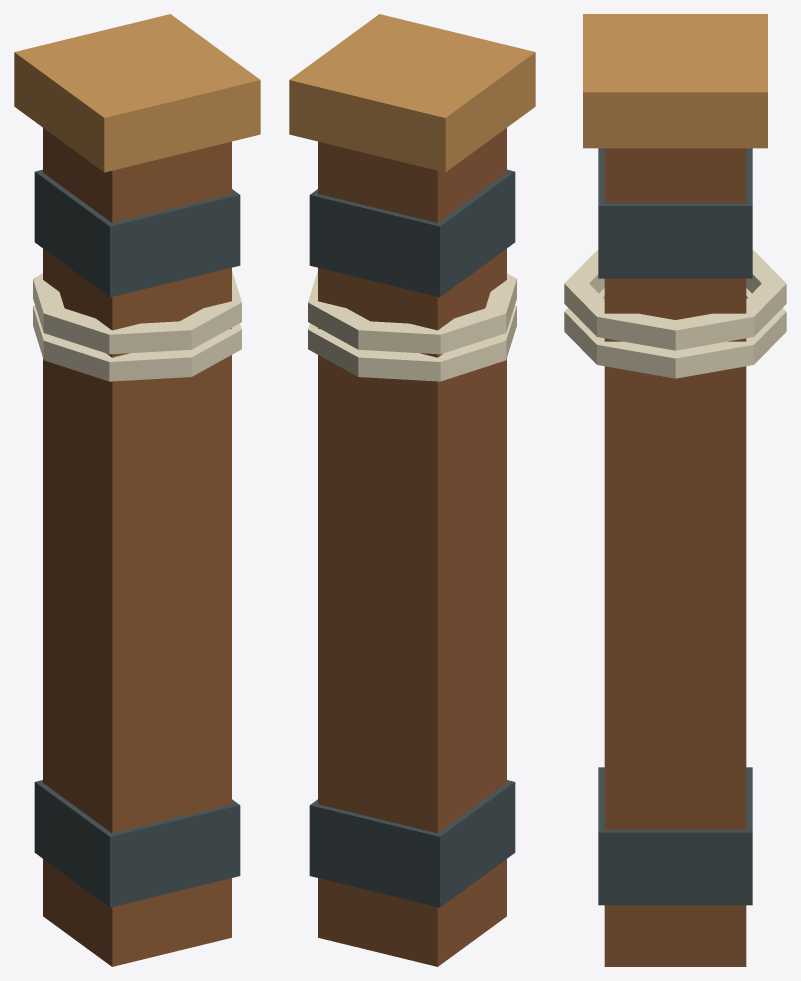
The model's file is main_dock_kit__pile_4.glb.
3 renders of one model, left to right at view 1: azimuth 30°, elevation 25°; view 2: azimuth 150°, elevation 25°; view 3: azimuth 270°, elevation 25°, orthographic. The views are drawn at different scales.
Parts seen in each view (by area): view 1: pile_4__wood.002, pile_4__metal.002, pile_4__wood3.002, pile_4__cream.002; view 2: pile_4__wood.002, pile_4__metal.002, pile_4__wood3.002, pile_4__cream.002; view 3: pile_4__wood.002, pile_4__metal.002, pile_4__wood3.002, pile_4__cream.002.
Part boxes in pixels (x1,y1,x2,y2): pile_4__wood.002: [43, 128, 231, 966]; pile_4__metal.002: [34, 169, 240, 907]; pile_4__wood3.002: [14, 14, 260, 172]; pile_4__cream.002: [33, 271, 241, 381]; pile_4__wood.002: [318, 128, 506, 966]; pile_4__metal.002: [309, 169, 515, 907]; pile_4__wood3.002: [289, 14, 535, 172]; pile_4__cream.002: [308, 271, 516, 381]; pile_4__wood.002: [604, 148, 746, 966]; pile_4__metal.002: [598, 148, 752, 905]; pile_4__wood3.002: [583, 14, 767, 148]; pile_4__cream.002: [564, 250, 786, 378].
Bounding box in the file's own units: 0.36 × 1.58 × 0.36.
